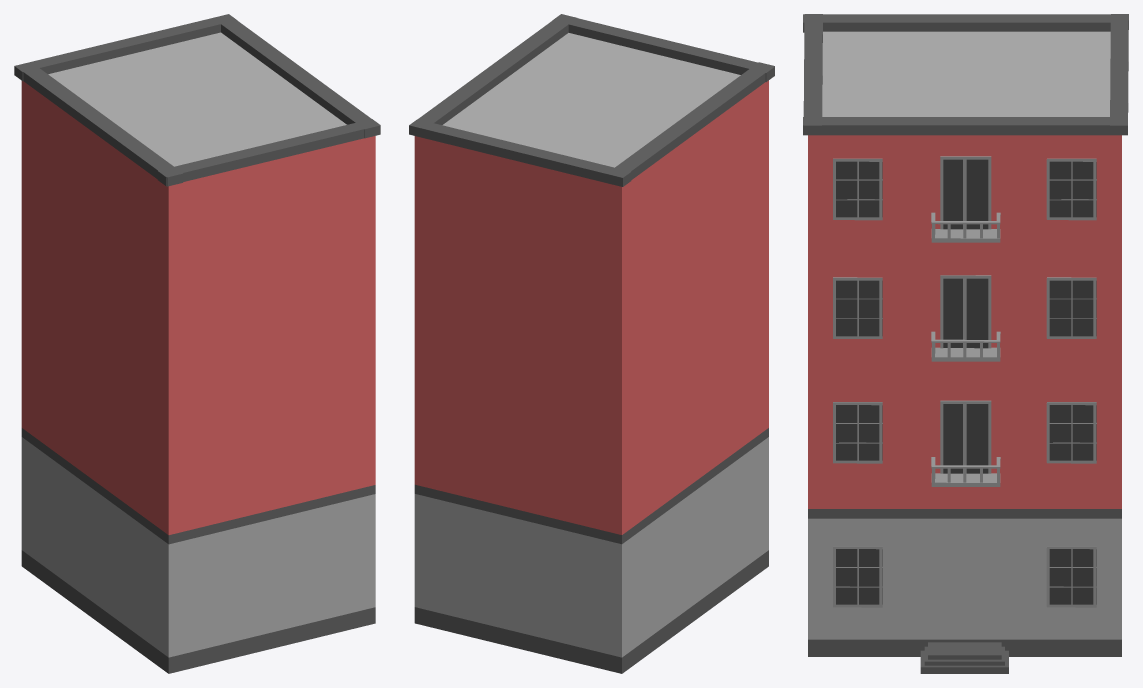
Rendered from Building_Red.fbx.
3 views of the same model, side by side, from view 1: azimuth 30°, elevation 25°; view 2: azimuth 150°, elevation 25°; view 3: azimuth 270°, elevation 25° (orthographic). The views are drawn at different scales.
Visible parts, largest first — view 1: pCube1, pCube3, pCube2, pCube5, pCube4; view 2: pCube1, pCube4, pCube3, pCube2, pCube5; view 3: pCube1, pCube2, pCube3, pPlane10, pPlane11, pPlane9, pPlane8, pPlane6, pPlane2, pPlane4, pPlane7, pPlane5 (+10 smaller).
Part boxes in pixels (<box>): pCube1: <box>21,32,375,673</box>; pCube3: <box>16,62,183,186</box>; pCube2: <box>213,14,380,138</box>; pCube5: <box>157,119,380,186</box>; pCube4: <box>14,14,236,81</box>; pCube1: <box>414,33,768,673</box>; pCube4: <box>409,120,631,186</box>; pCube3: <box>608,62,774,179</box>; pCube2: <box>410,14,576,128</box>; pCube5: <box>552,14,774,81</box>; pCube1: <box>808,31,1121,656</box>; pCube2: <box>803,117,1126,135</box>; pCube3: <box>803,14,1126,32</box>; pPlane10: <box>943,159,988,229</box>; pPlane11: <box>943,404,988,473</box>; pPlane9: <box>943,278,988,348</box>; pPlane8: <box>1049,280,1096,336</box>; pPlane6: <box>1049,161,1096,217</box>; pPlane2: <box>1049,549,1096,604</box>; pPlane4: <box>1049,405,1096,460</box>; pPlane7: <box>836,280,882,336</box>; pPlane5: <box>836,161,882,217</box>.
Size of the model in its own units: 6.86 by 13.49 by 7.47.
